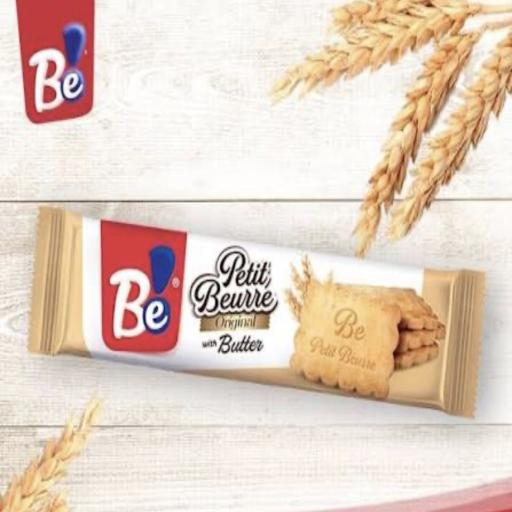petit-beurre: (12, 180, 502, 459)
